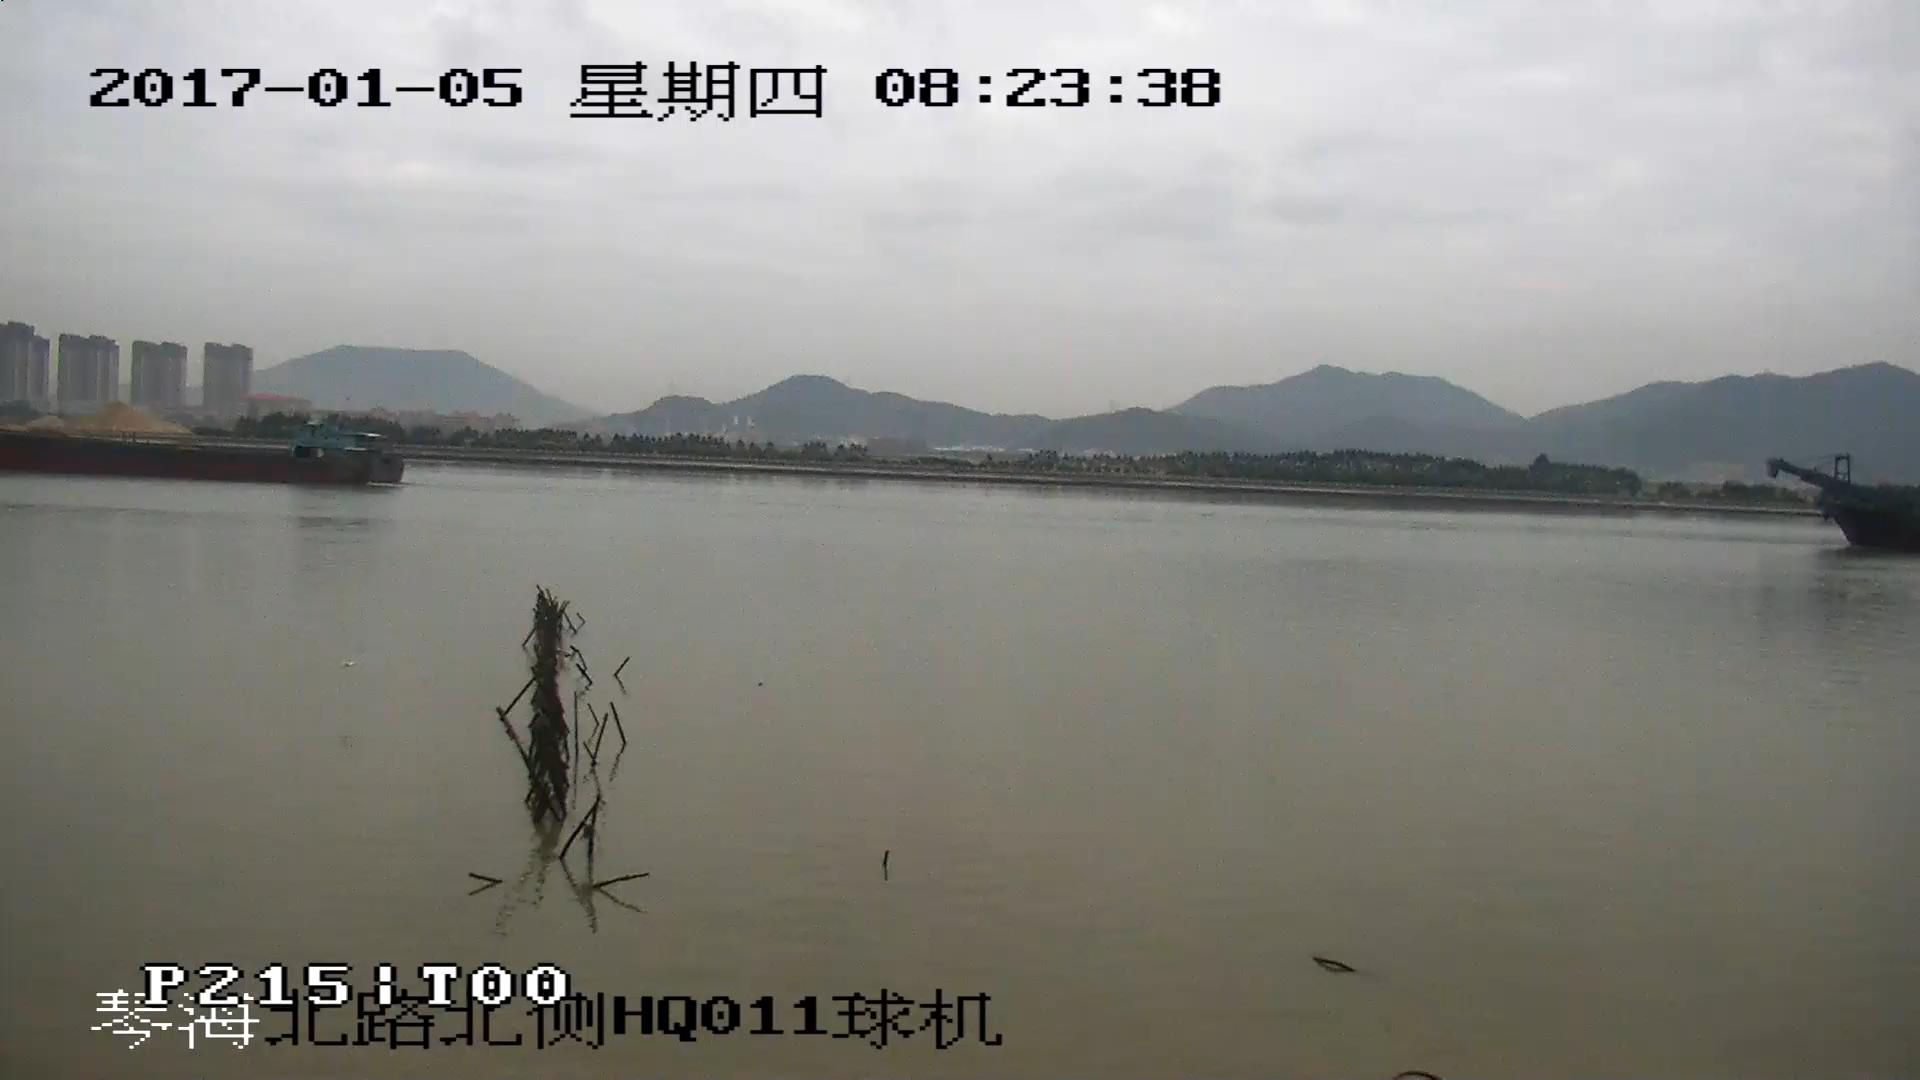bulk cargo carrier: (1, 422, 397, 489), (1772, 455, 1920, 556)
